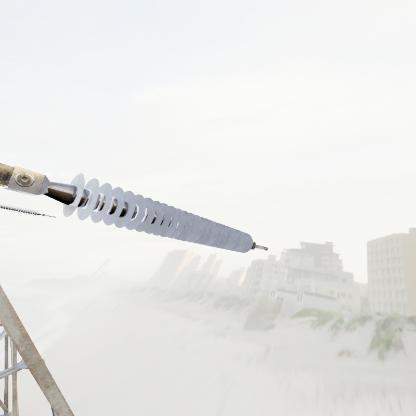insulator: (61, 169, 258, 254)
